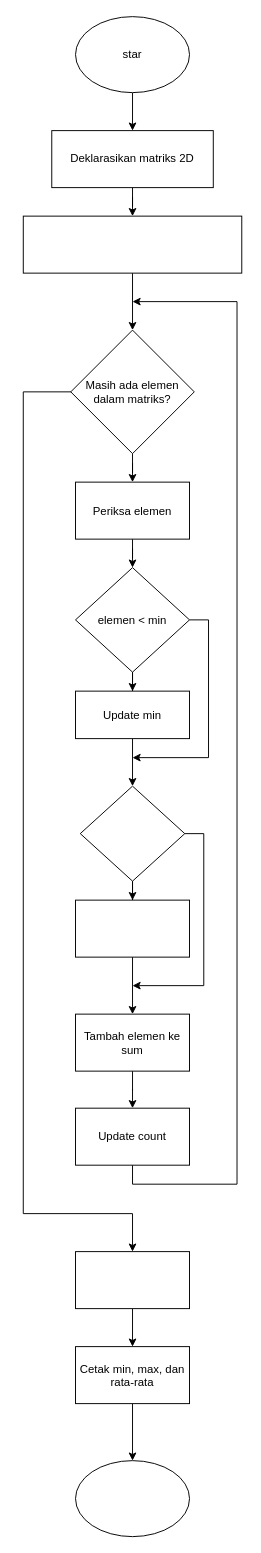
The diagram is 261 pixels wide and 1553 high, and some of its shapes have lost their labels. Each missing label, with the centre of its shape:
"elemen > max" goes at (x=132, y=833).
"Hitung rata-rata" goes at (x=132, y=1280).
"Inisialisasi min, max, sum, count" goes at (x=132, y=244).
"stop" goes at (x=132, y=1498).
"Update max" goes at (x=132, y=928).
